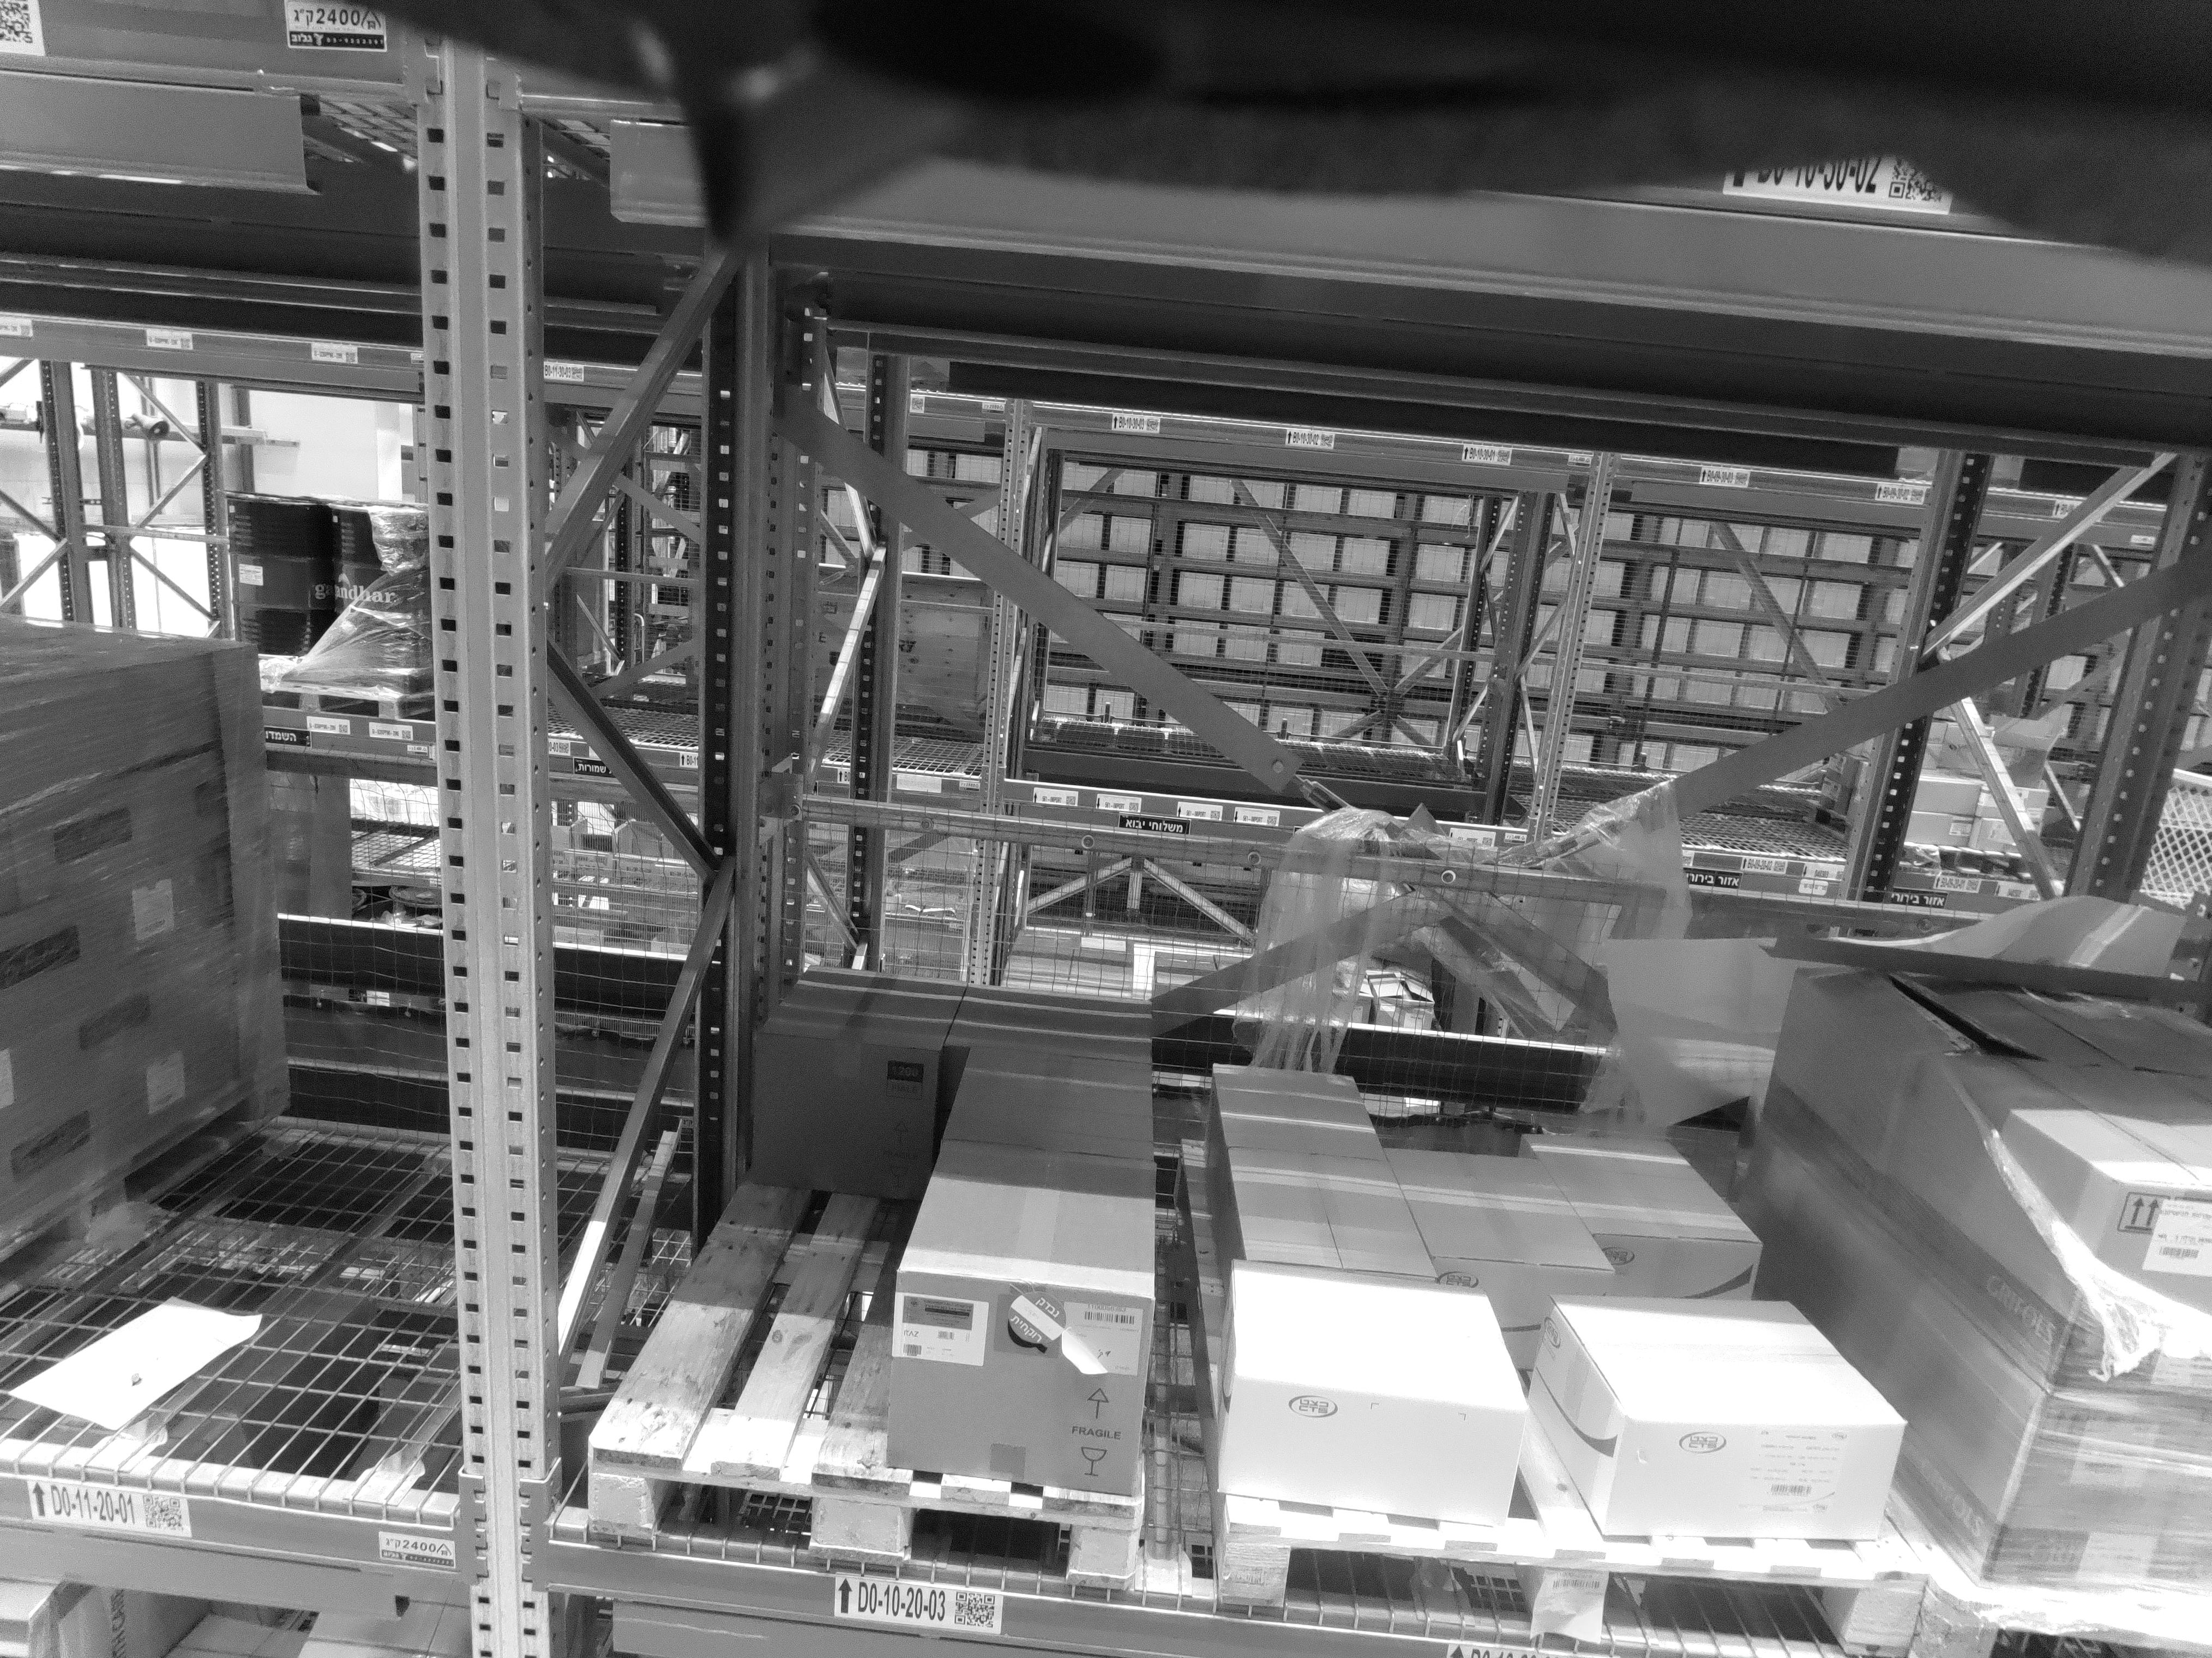empty-shelf: (216, 545, 423, 1360)
